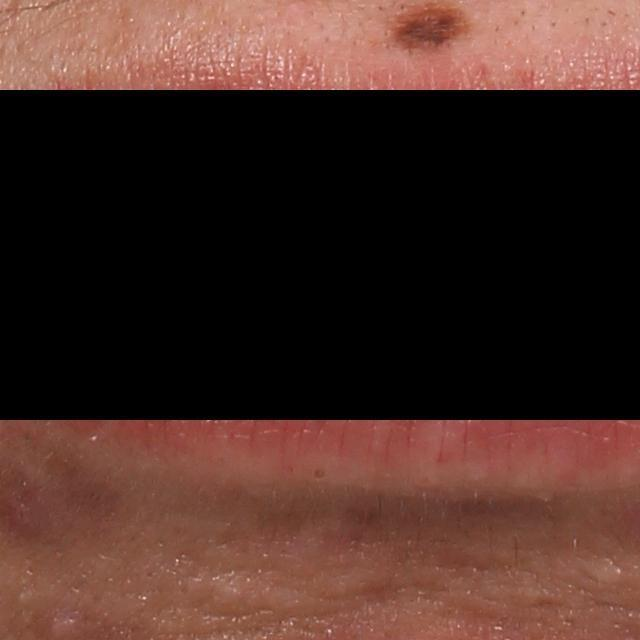comedo: (309, 464, 330, 481)
hypertrophic_scar: (194, 568, 299, 622), (574, 554, 632, 586)
